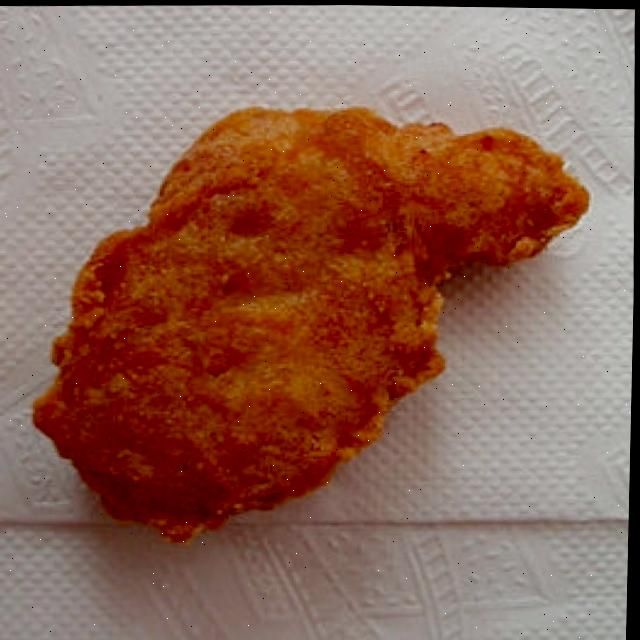鸡肉料理 含炸鸡: (20, 75, 614, 569)
